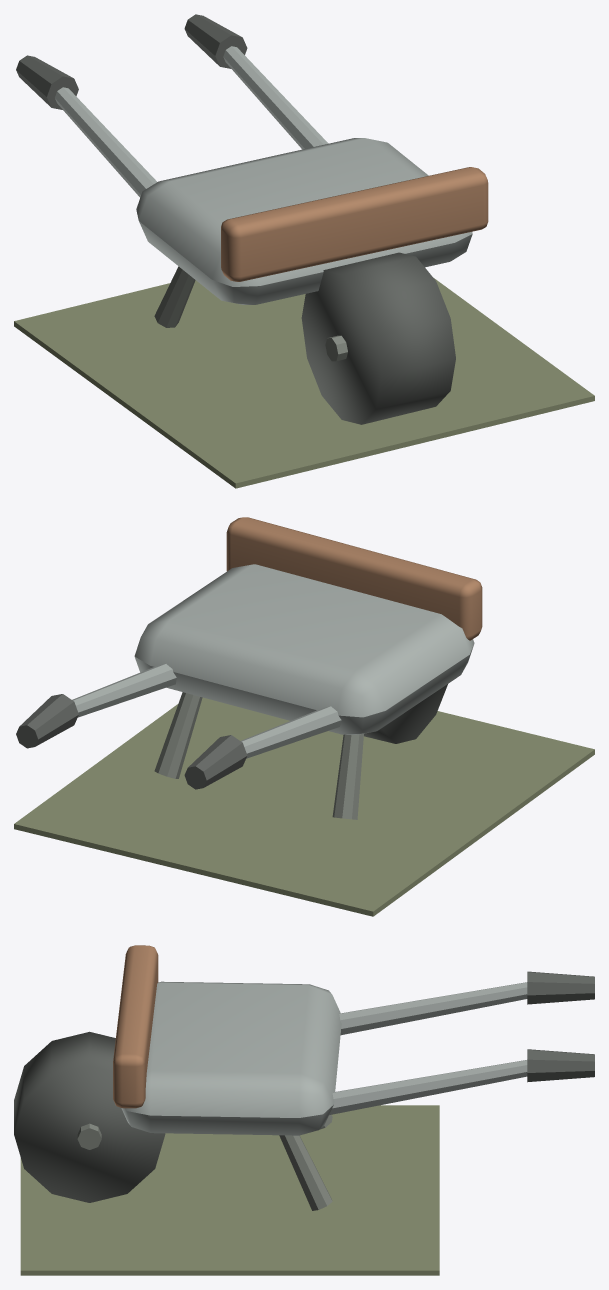
File: wheelbarrow.glb
3 renders of one model, top to bottom at view 1: azimuth 30°, elevation 25°; view 2: azimuth 150°, elevation 25°; view 3: azimuth 270°, elevation 25°, orthographic. The views are drawn at different scales.
Parts seen in each view (by area): view 1: Gnome boots.003; view 2: Gnome boots.003; view 3: Gnome boots.003.
Part boxes in pixels (x1,y1,x2,y2): Gnome boots.003: (14, 14, 594, 488); Gnome boots.003: (14, 517, 594, 916); Gnome boots.003: (14, 945, 594, 1275).
Size of the model in its own units: 1.45 by 0.788 by 2.15.
